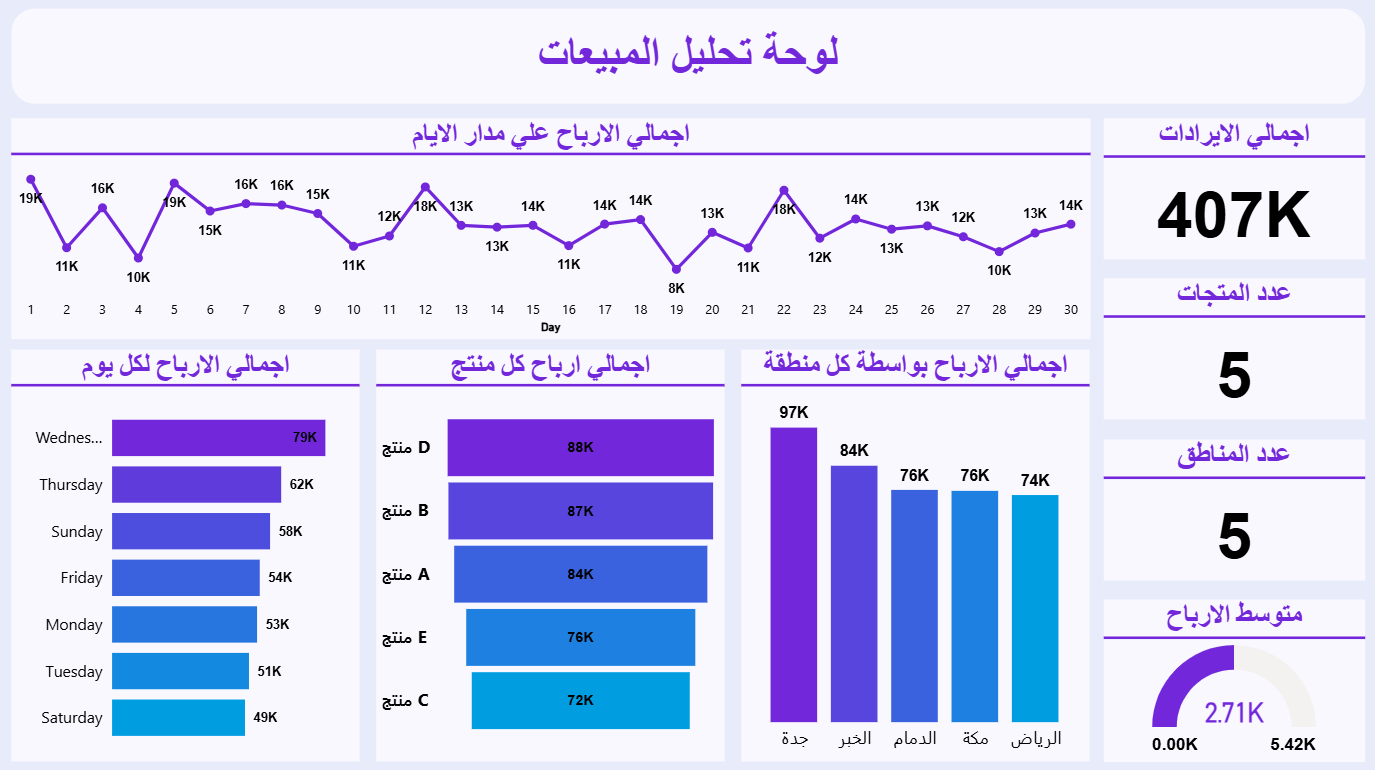

The dashboard page shown, as its layout file describes it:
{"tool":"powerbi","page":{"name":"Page 1","canvas":[1280,720],"ordinal":0},"visuals":[{"type":"shape","box":[10.2,11,1259.7,89.2],"z":0},{"type":"textbox","box":[86.3,24.7,1107.4,64.5],"z":1000},{"type":"card","title":"اجمالي الايرادات","fields":{"Values":["Dataset_مسابقة_محللي_البيانات xlsx - Sheet1.اجمالي الارباح"]},"box":[1027.1,112.9,242.9,131.4],"z":2000},{"type":"card","title":"عدد المتجات","fields":{"Values":["Dataset_مسابقة_محللي_البيانات xlsx - Sheet1.عدد المنتجات"]},"box":[1027.1,261.4,242.9,131.4],"z":3000},{"type":"card","title":"عدد المناطق","fields":{"Values":["Dataset_مسابقة_محللي_البيانات xlsx - Sheet1.عدد المناطق"]},"box":[1027.1,411.4,242.9,131.4],"z":4000},{"type":"gauge","fields":{"Y":["Dataset_مسابقة_محللي_البيانات xlsx - Sheet1.متوسط الارباح"]},"box":[1027.1,560,242.9,151.4],"z":5000},{"type":"lineChart","title":"اجمالي الارباح علي مدار الايام","fields":{"Category":["Dataset_مسابقة_محللي_البيانات xlsx - Sheet1.التاريخ.Variation.Date Hierarchy.Day"],"Y":["Dataset_مسابقة_محللي_البيانات xlsx - Sheet1.اجمالي الارباح"]},"box":[10,112.9,1004.3,205.7],"z":6000},{"type":"barChart","title":"اجمالي الارباح لكل يوم ","fields":{"Category":["Dataset_مسابقة_محللي_البيانات xlsx - Sheet1.أسم الاسبوع"],"Y":["Dataset_مسابقة_محللي_البيانات xlsx - Sheet1.اجمالي الارباح"]},"box":[10,328.1,324.3,382.9],"z":7000},{"type":"funnel","title":"اجمالي ارباح كل منتج","fields":{"Y":["Dataset_مسابقة_محللي_البيانات xlsx - Sheet1.اجمالي الارباح"],"Category":["Dataset_مسابقة_محللي_البيانات xlsx - Sheet1.المنتج"]},"box":[350,328.1,324.3,382.9],"z":8000},{"type":"clusteredColumnChart","title":"اجمالي الارباح بواسطة كل منطقة","fields":{"Category":["Dataset_مسابقة_محللي_البيانات xlsx - Sheet1.المنطقة"],"Y":["Dataset_مسابقة_محللي_البيانات xlsx - Sheet1.اجمالي الارباح"]},"box":[690,328.1,324.3,382.9],"z":9000}]}

Visuals, with their boxes in screenshot pixels (x1, y1, x2, y2), scaled from the page's 1280x720 canvas onto the 1375x770 screenshot:
shape: 11 12 1364 107
textbox: 93 26 1282 95
"اجمالي الايرادات" card: 1103 121 1364 261
"عدد المتجات" card: 1103 280 1364 420
"عدد المناطق" card: 1103 440 1364 580
gauge - Dataset_مسابقة_محللي_البيانات xlsx - Sheet1.متوسط الارباح: 1103 599 1364 761
"اجمالي الارباح علي مدار الايام" lineChart: 11 121 1090 341
"اجمالي الارباح لكل يوم " barChart: 11 351 359 760
"اجمالي ارباح كل منتج" funnel: 376 351 724 760
"اجمالي الارباح بواسطة كل منطقة" clusteredColumnChart: 741 351 1090 760
